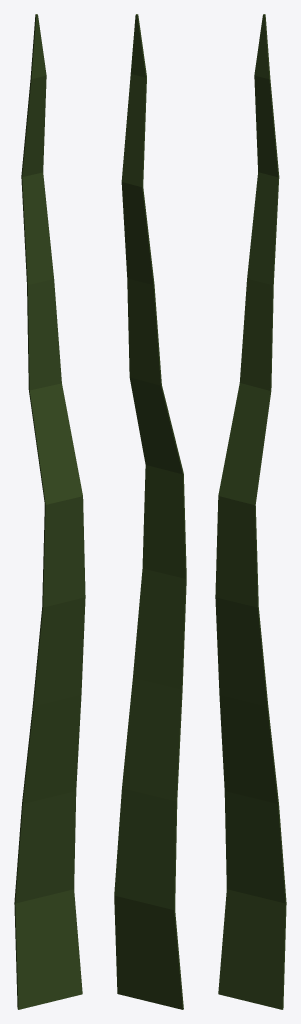
Rendered from grass.glb.
3 renders of one model, left to right at view 1: azimuth 30°, elevation 25°; view 2: azimuth 150°, elevation 25°; view 3: azimuth 330°, elevation 25°, orthographic. The views are drawn at different scales.
Visible parts, largest first — view 1: Plane; view 2: Plane; view 3: Plane.
Part boxes in pixels (<box>): Plane: <box>14,14,85,1009</box>; Plane: <box>114,14,186,1009</box>; Plane: <box>215,14,286,1009</box>.
Bounding box in the file's own units: 0.0765 × 1.11 × 0.0681.
